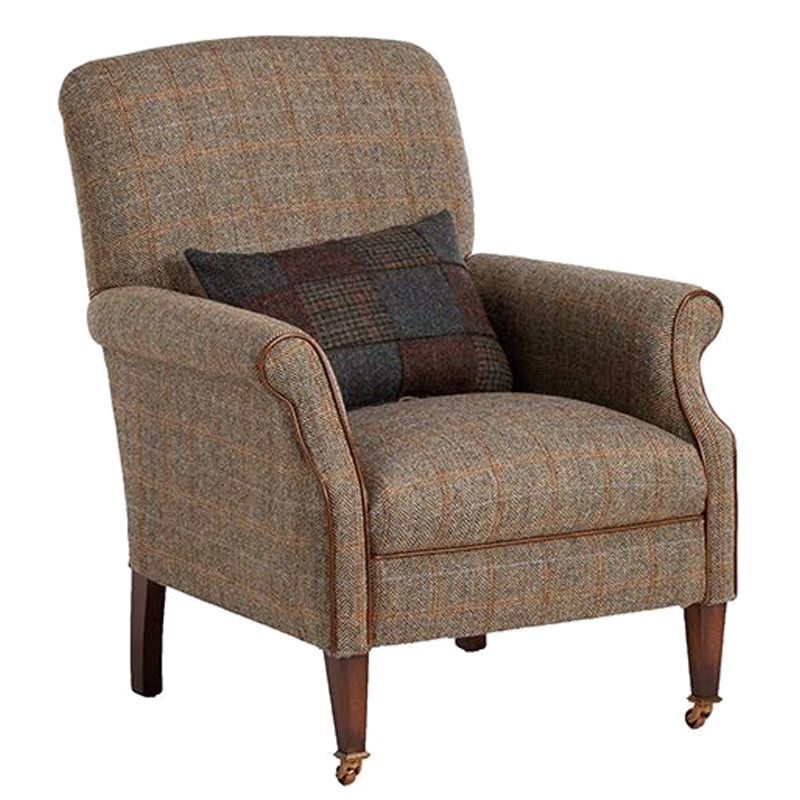chairs: (55, 32, 745, 787)
